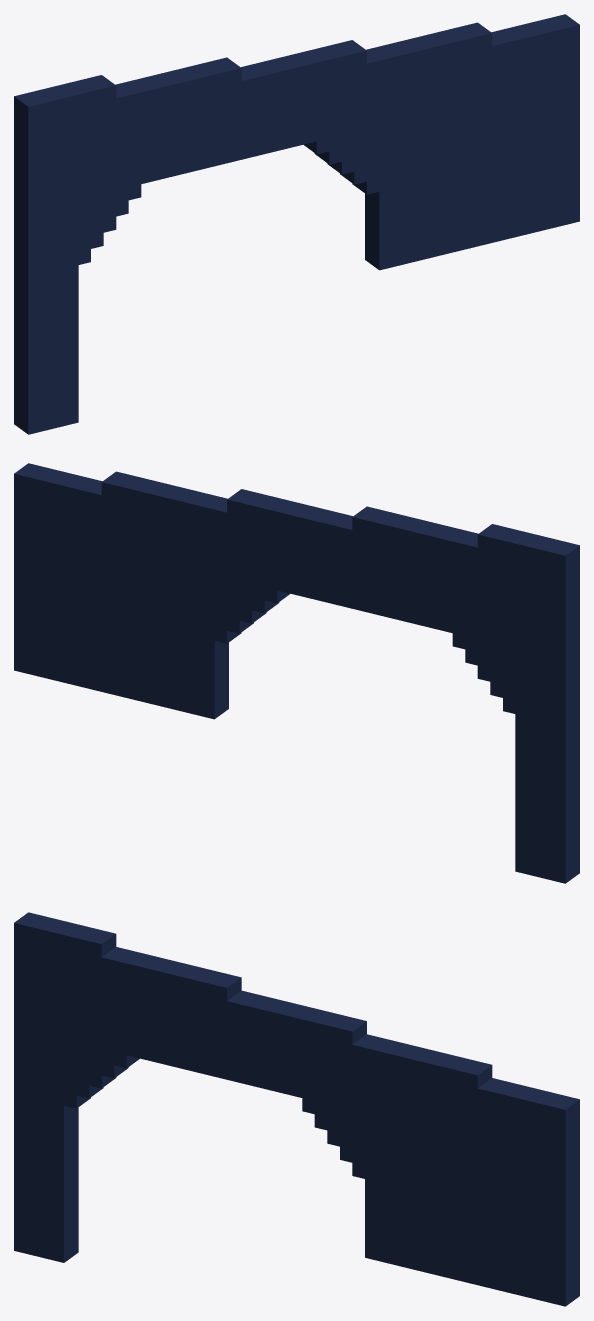
The model's file is police_car_front_wing.glb.
3 renders of one model, top to bottom at view 1: azimuth 30°, elevation 25°; view 2: azimuth 150°, elevation 25°; view 3: azimuth 330°, elevation 25°, orthographic.
Parts seen in each view (by area): view 1: body:compound; view 2: body:compound; view 3: body:compound.
Boxes of the visible parts, x1,y1,x2,y2 form: body:compound: (14, 14, 579, 434); body:compound: (14, 463, 579, 883); body:compound: (14, 912, 579, 1306).
Size of the model in its own units: 1.38 by 0.7812 by 0.0625.
